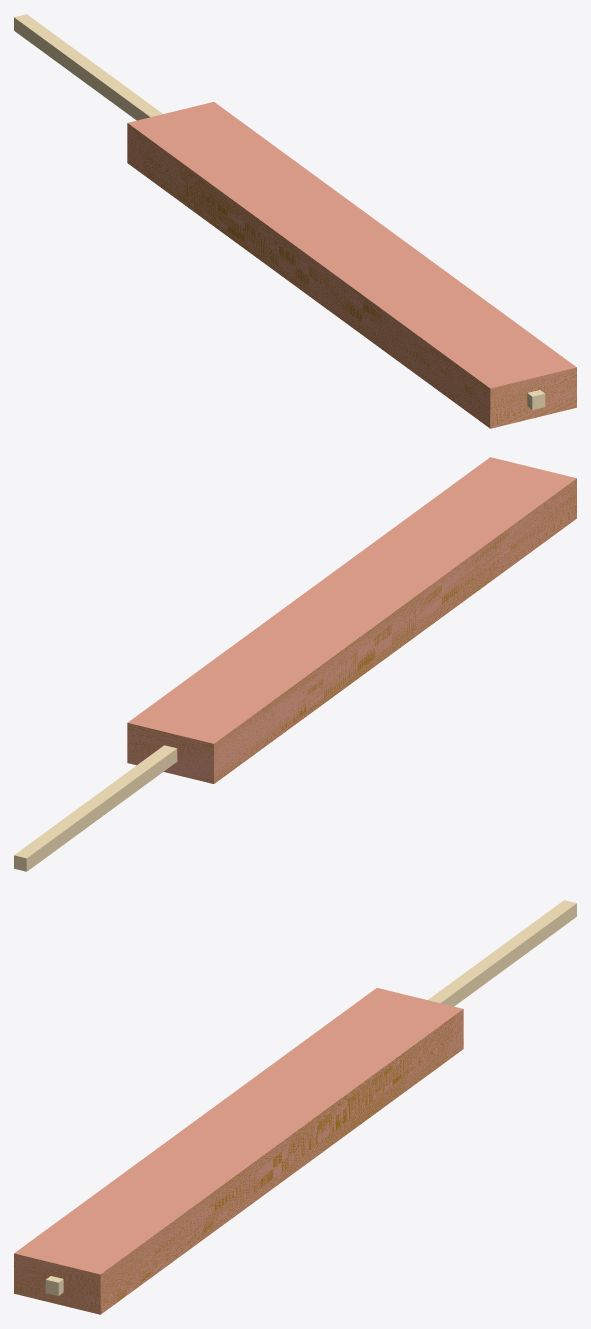
The model's file is Skewer with meat_Blocking.fbx.
3 views of the same model, one above another, from view 1: azimuth 30°, elevation 25°; view 2: azimuth 150°, elevation 25°; view 3: azimuth 330°, elevation 25° (orthographic).
Visible parts, largest first — view 1: Yakitori_Side_2, Yakitori_Side_Cooked, Yakitori_Side_1, Skewer_with_meat; view 2: Yakitori_Side_2, Yakitori_Side_1, Yakitori_Side_Cooked, Skewer_with_meat; view 3: Yakitori_Side_2, Yakitori_Side_Cooked, Yakitori_Side_1, Skewer_with_meat.
Part boxes in pixels (box(x1,y1,x2,y2)): Yakitori_Side_2: box(127, 102, 576, 408); Yakitori_Side_Cooked: box(127, 124, 576, 428); Yakitori_Side_1: box(127, 143, 576, 428); Skewer_with_meat: box(14, 14, 545, 409); Yakitori_Side_2: box(127, 457, 576, 763); Yakitori_Side_1: box(127, 498, 576, 783); Yakitori_Side_Cooked: box(127, 479, 576, 783); Skewer_with_meat: box(14, 745, 177, 871); Yakitori_Side_2: box(14, 988, 463, 1294); Yakitori_Side_Cooked: box(14, 1011, 463, 1314); Yakitori_Side_1: box(14, 1029, 463, 1314); Skewer_with_meat: box(45, 900, 576, 1295).
Bounding box in the file's own units: 3.37 × 1.5 × 35.
